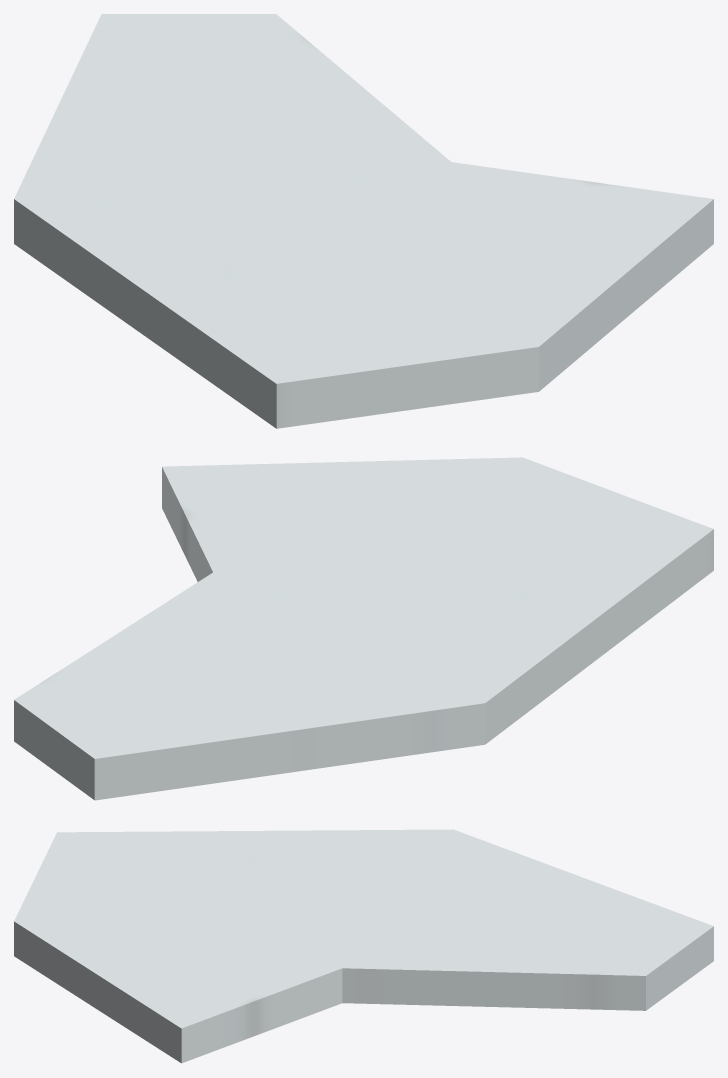
The model's file is ice4.glb.
The picture shows the model from 3 angles, top to bottom: view 1: azimuth 30°, elevation 25°; view 2: azimuth 150°, elevation 25°; view 3: azimuth 270°, elevation 25°; orthographic projection. The views are drawn at different scales.
Parts seen in each view (by area): view 1: ice_02; view 2: ice_02; view 3: ice_02.
Boxes of the visible parts, bbox=[...] form: ice_02: bbox=[14, 14, 713, 428]; ice_02: bbox=[14, 457, 713, 800]; ice_02: bbox=[14, 829, 713, 1063].
Bounding box in the file's own units: 3.46 × 0.2833 × 5.15.
1 material, 1 textured.
